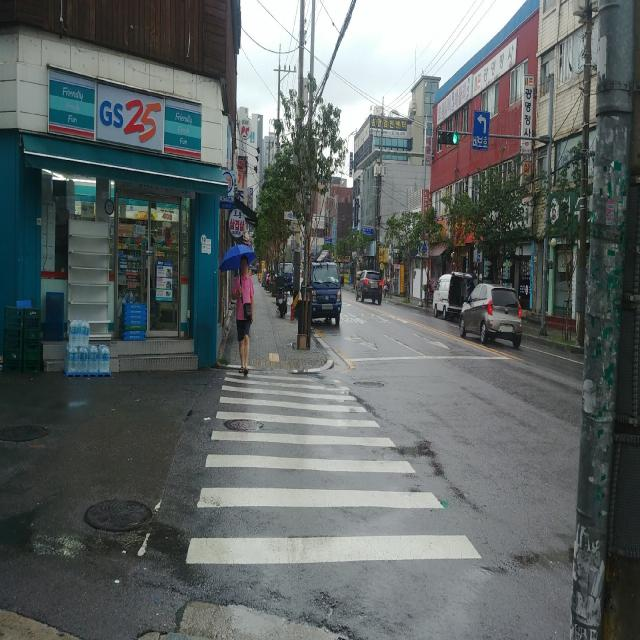횡단보도: (184, 370, 485, 568)
